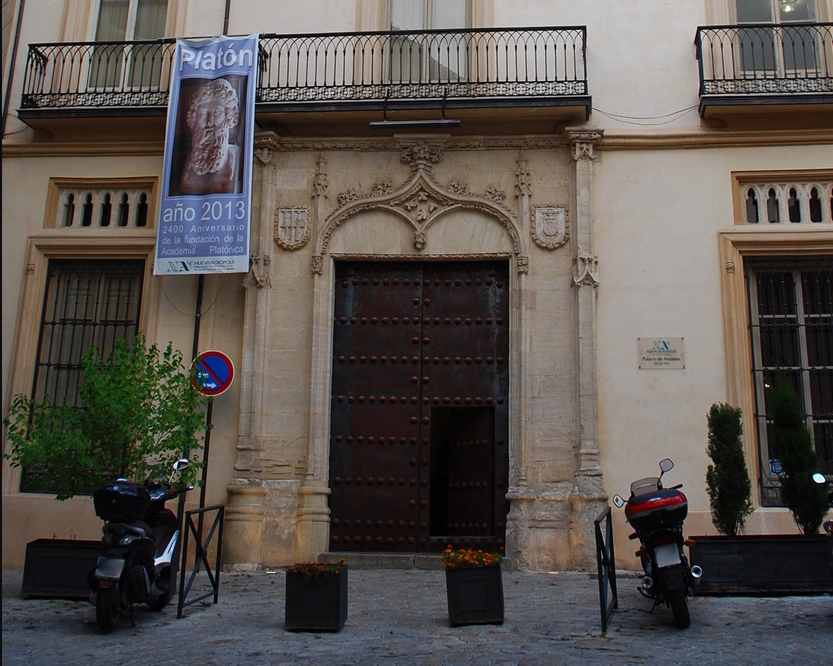arco-conopial: (304, 159, 534, 257)
